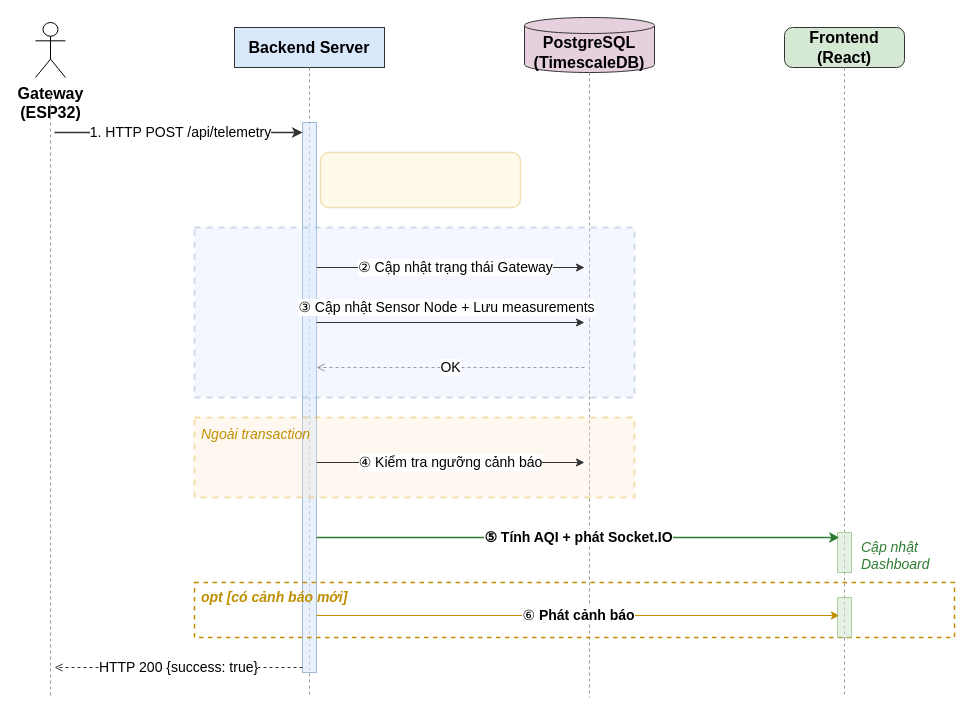
Image size: 972x716. Some labels were removed from this diagram. Here are the shapes that lost their labels. From the top down, the box of each, then its label:
(319, 151, 521, 208): ① Lọc trùng lặp (dedupCache) Kiểm tra (nodeId, msgId)
(193, 226, 635, 398): «transaction»
